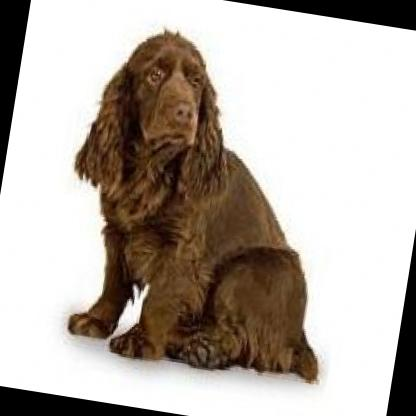Sussex_spaniel: (43, 16, 366, 382)
